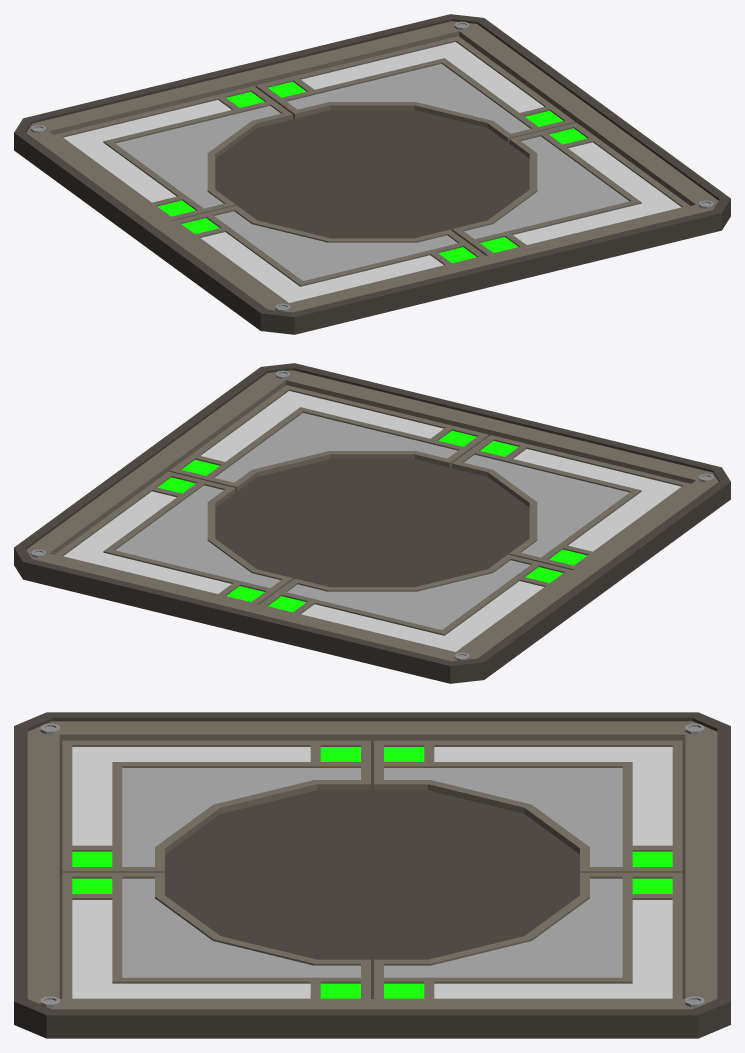
File: Tree_Grate.FBX
3 views of the same model, one above another, from view 1: azimuth 30°, elevation 25°; view 2: azimuth 150°, elevation 25°; view 3: azimuth 270°, elevation 25° (orthographic). The views are drawn at different scales.
Parts seen in each view (by area): view 1: Tree_Grate_LOD0; view 2: Tree_Grate_LOD0; view 3: Tree_Grate_LOD0.
Boxes of the visible parts, x1=… form: Tree_Grate_LOD0: x1=14, y1=14, x2=730, y2=334; Tree_Grate_LOD0: x1=14, y1=363, x2=730, y2=683; Tree_Grate_LOD0: x1=14, y1=712, x2=730, y2=1038.
Size of what is drawn, in the model's own units: 104 by 3.75 by 104.
